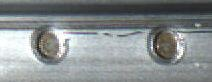joints: (27, 24, 68, 65), (148, 25, 184, 62)
